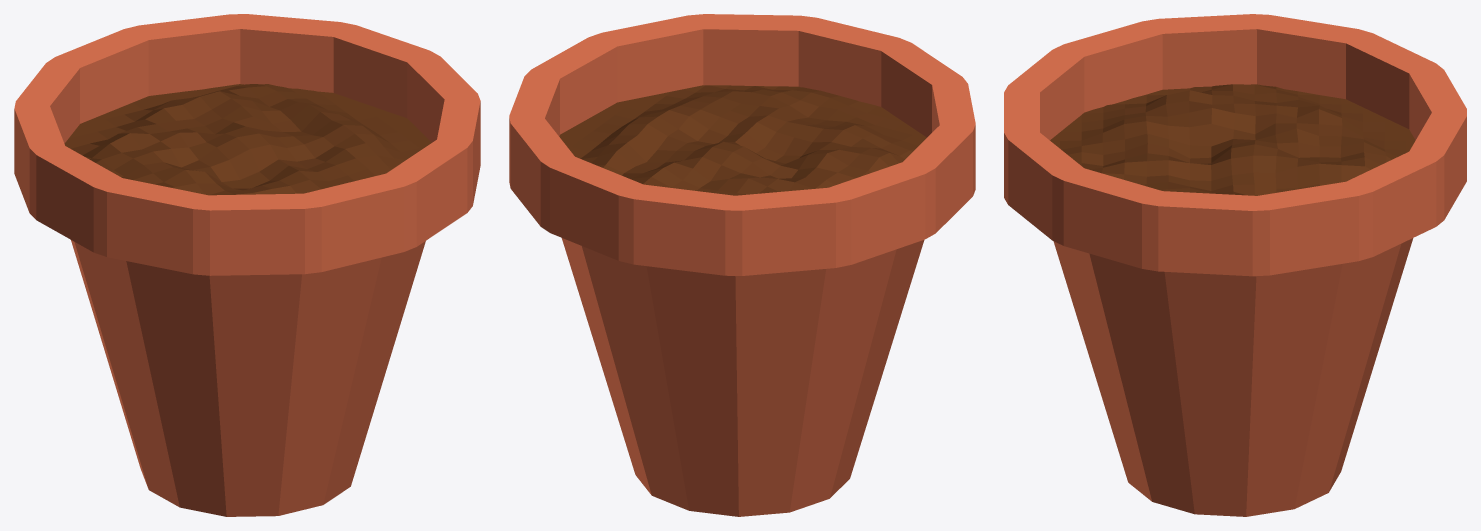
File: pot.fbx
3 renders of one model, left to right at view 1: azimuth 30°, elevation 25°; view 2: azimuth 150°, elevation 25°; view 3: azimuth 270°, elevation 25°, orthographic.
Parts seen in each view (by area): view 1: Cylinder, Grid; view 2: Cylinder, Grid; view 3: Cylinder, Grid.
Part boxes in pixels (<box>): Cylinder: <box>14,14,480,516</box>; Grid: <box>64,84,431,195</box>; Cylinder: <box>509,14,975,516</box>; Grid: <box>559,85,926,195</box>; Cylinder: <box>1004,14,1466,516</box>; Grid: <box>1050,84,1415,195</box>.
Size of the model in its own units: 1294 by 1100 by 1285.
